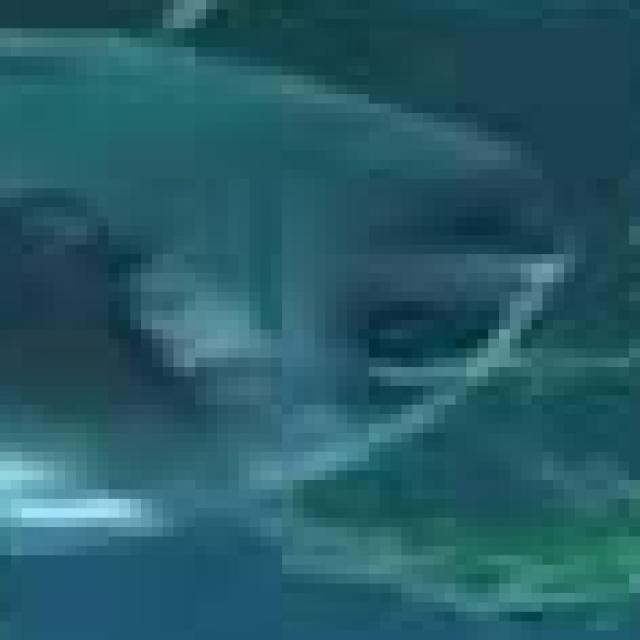fish: (11, 0, 640, 631)
